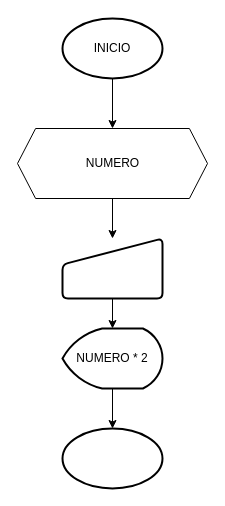
This 225x506 diagram has some shape labels left out. Here are the shapes that lost their labels. From the top down, the box of each, then its label:
(61, 237, 163, 299): Ler NUMERO
(61, 427, 163, 489): FIM
